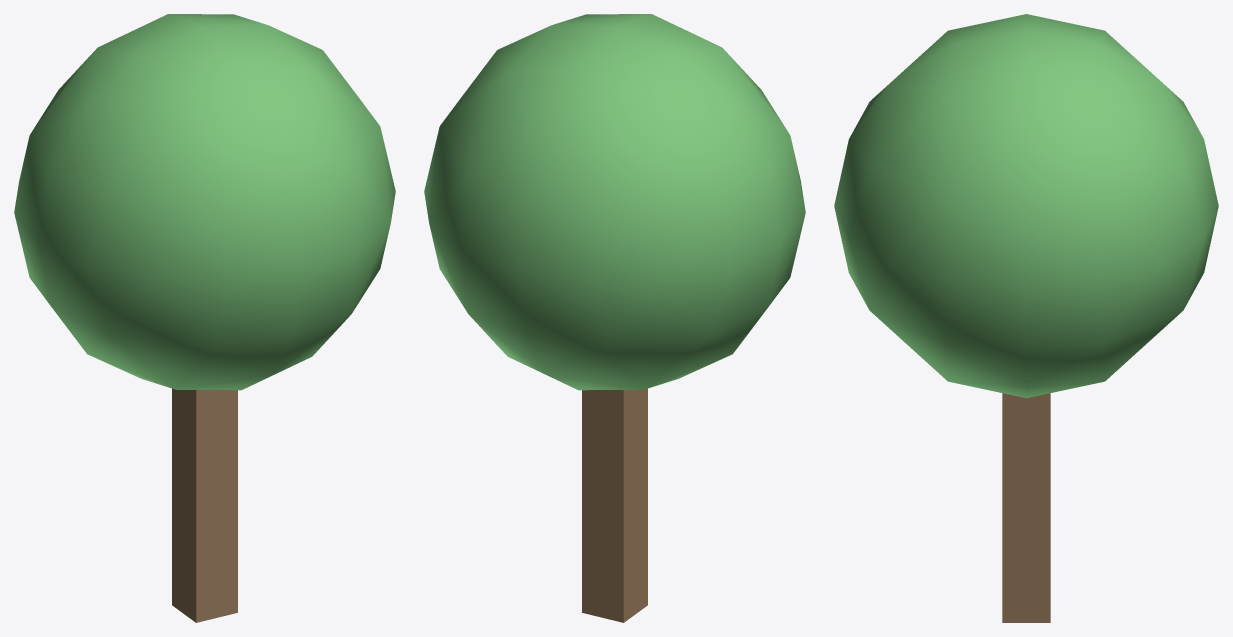
The model's file is LodTree.gltf.
3 views of the same model, side by side, from view 1: azimuth 30°, elevation 25°; view 2: azimuth 150°, elevation 25°; view 3: azimuth 270°, elevation 25° (orthographic).
Visible parts, largest first — view 1: Tree; view 2: Tree; view 3: Tree.
Boxes of the visible parts, x1,y1,x2,y2 form: Tree: [14, 14, 395, 622]; Tree: [424, 14, 805, 622]; Tree: [834, 14, 1218, 622].
Bounding box in the file's own units: 2.4 × 4 × 2.4.
